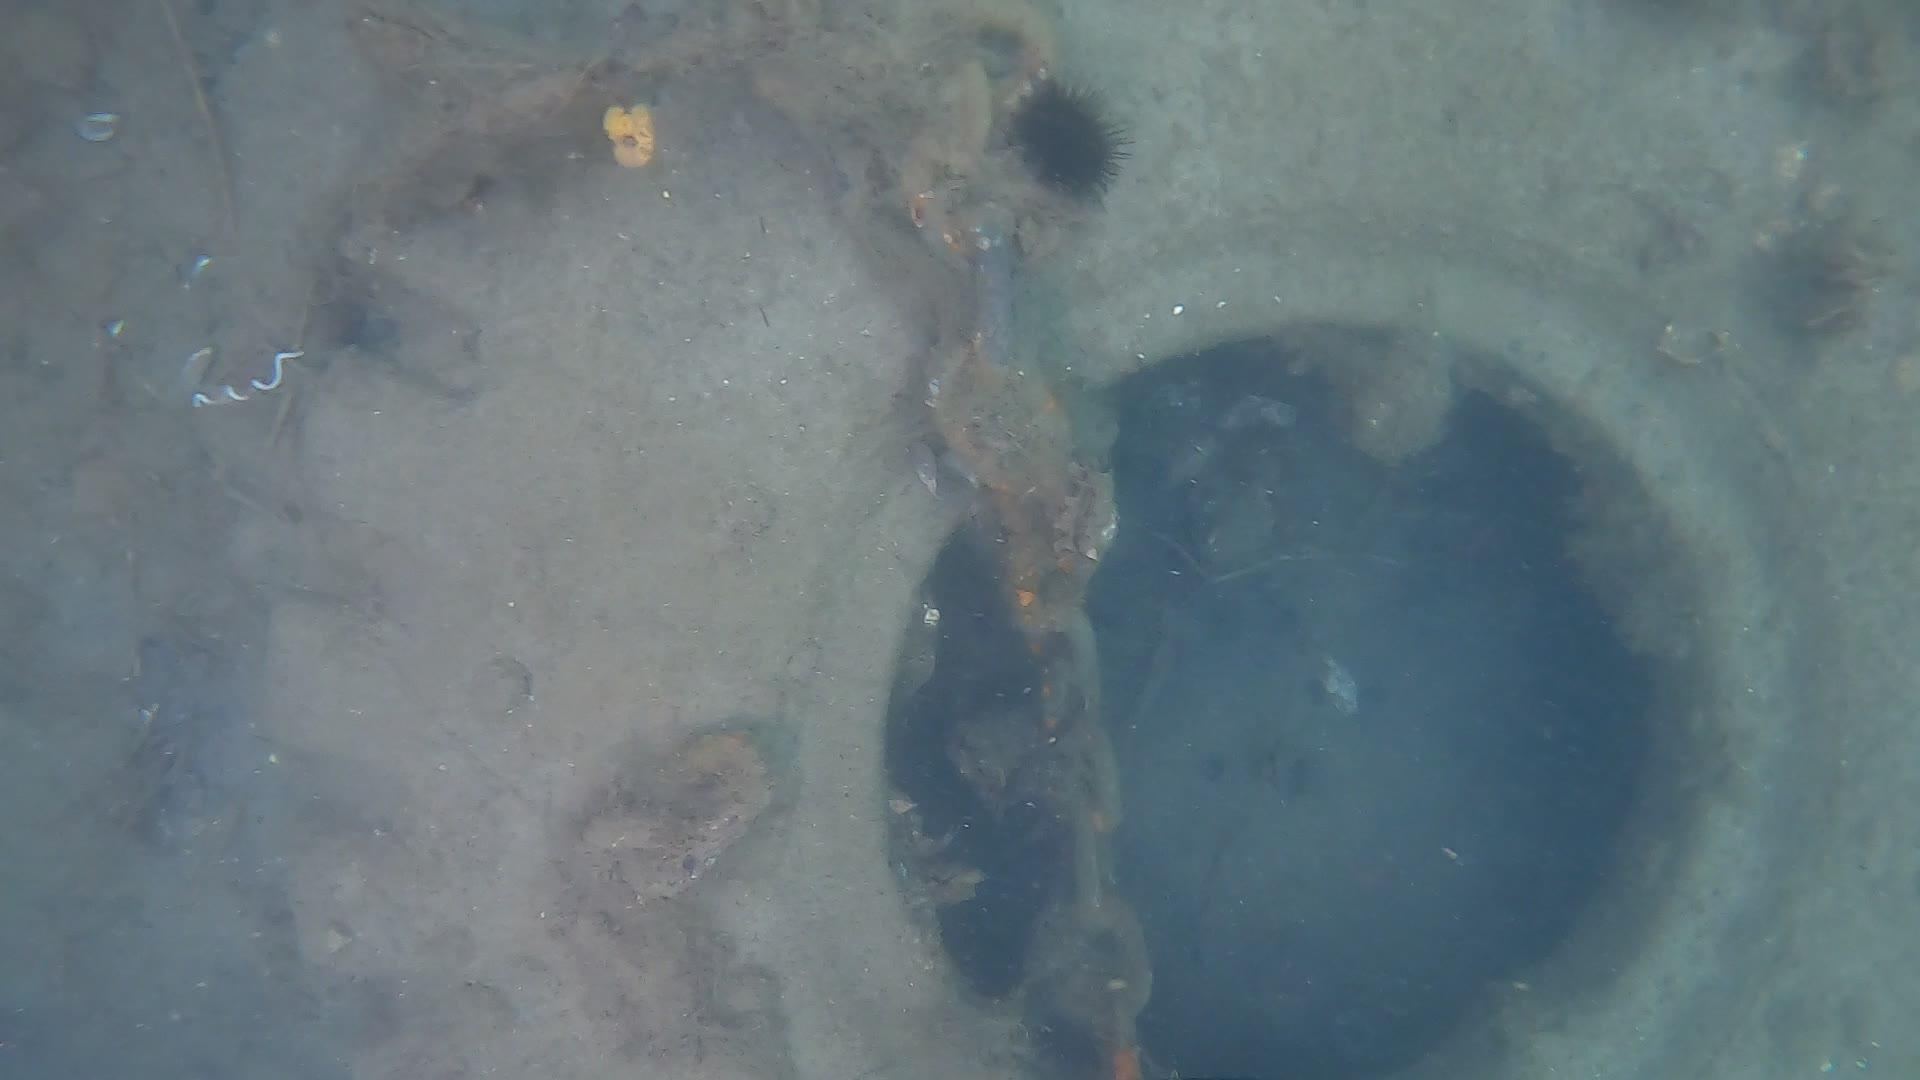tire: (262, 0, 1920, 1080)
